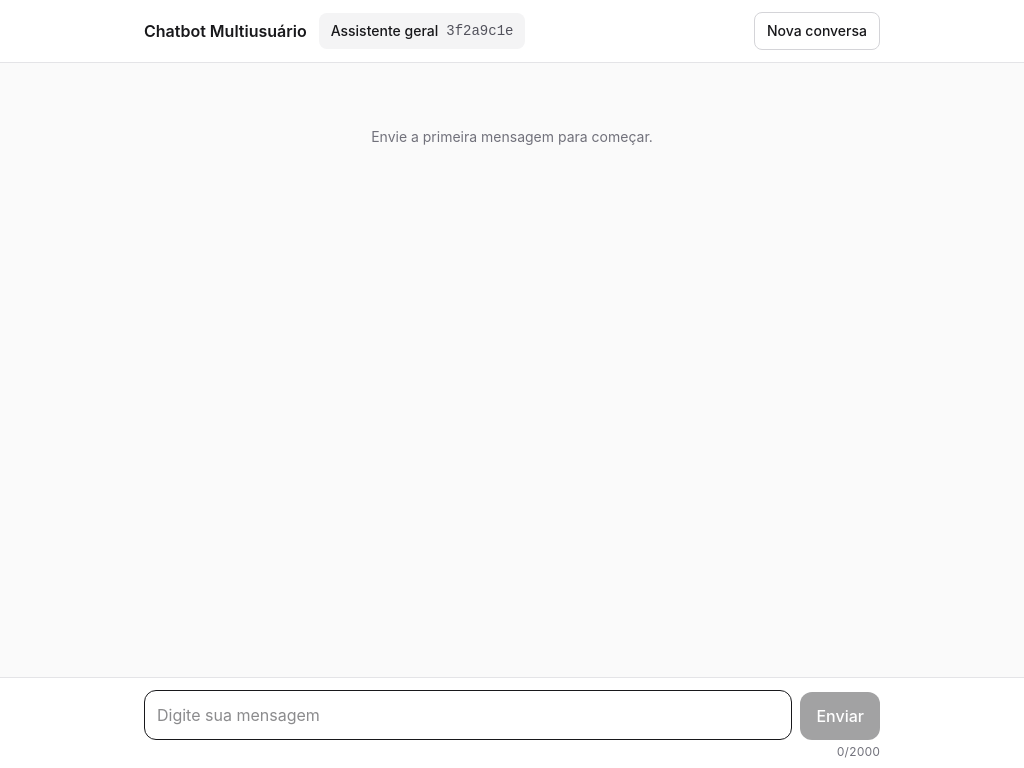
Test: erros e sessão expirada › resposta atrasada da conversa antiga não derruba a conversa nova
Step 1. Type "Pergunta lenta" into the text box labelled "mensagem" → (468, 715), box [144, 690, 792, 740]
Then press Enter
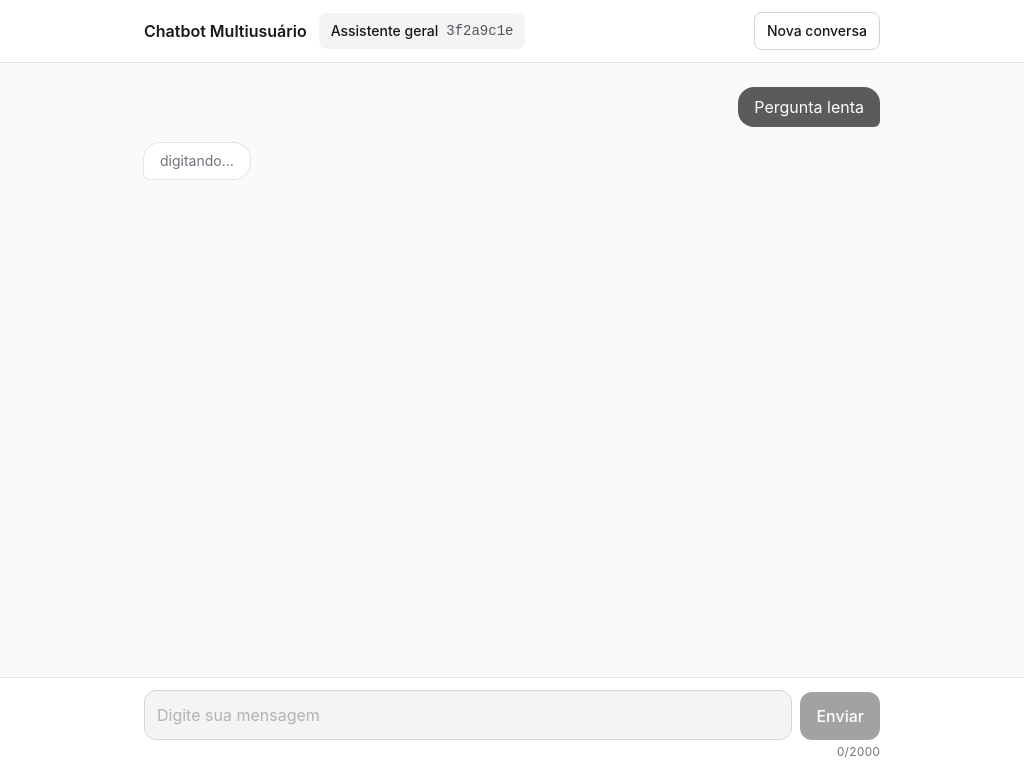
Step 2. Click the button "Nova conversa" → (817, 31), box [754, 12, 880, 50]
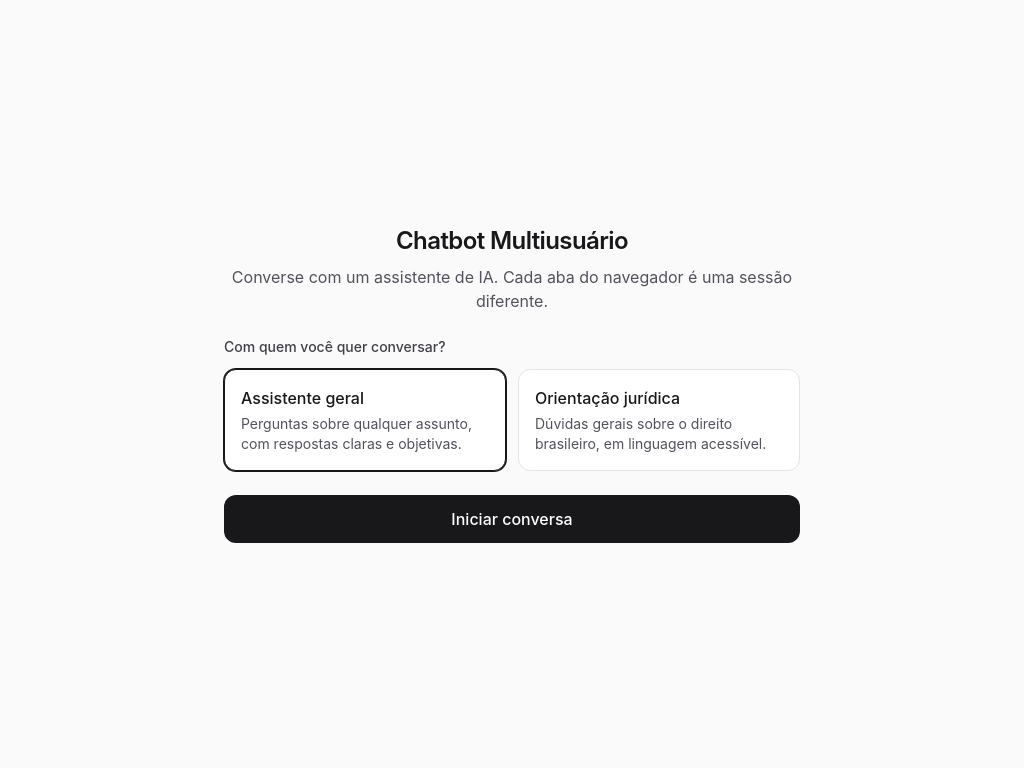
Step 3. Click the button "Iniciar conversa" → (512, 519), box [224, 495, 800, 543]
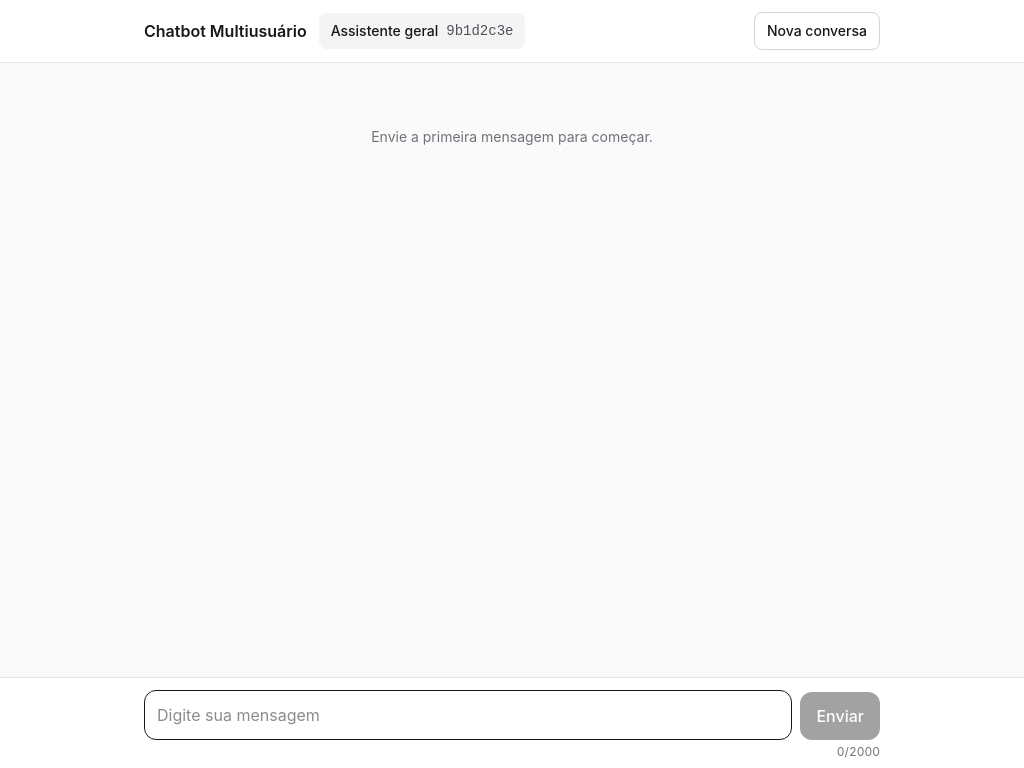
Expected: the text "9b1d2c3e" is shown, [446, 21, 513, 41]
Expected: the text box labelled "mensagem" is shown, [144, 690, 792, 740]
